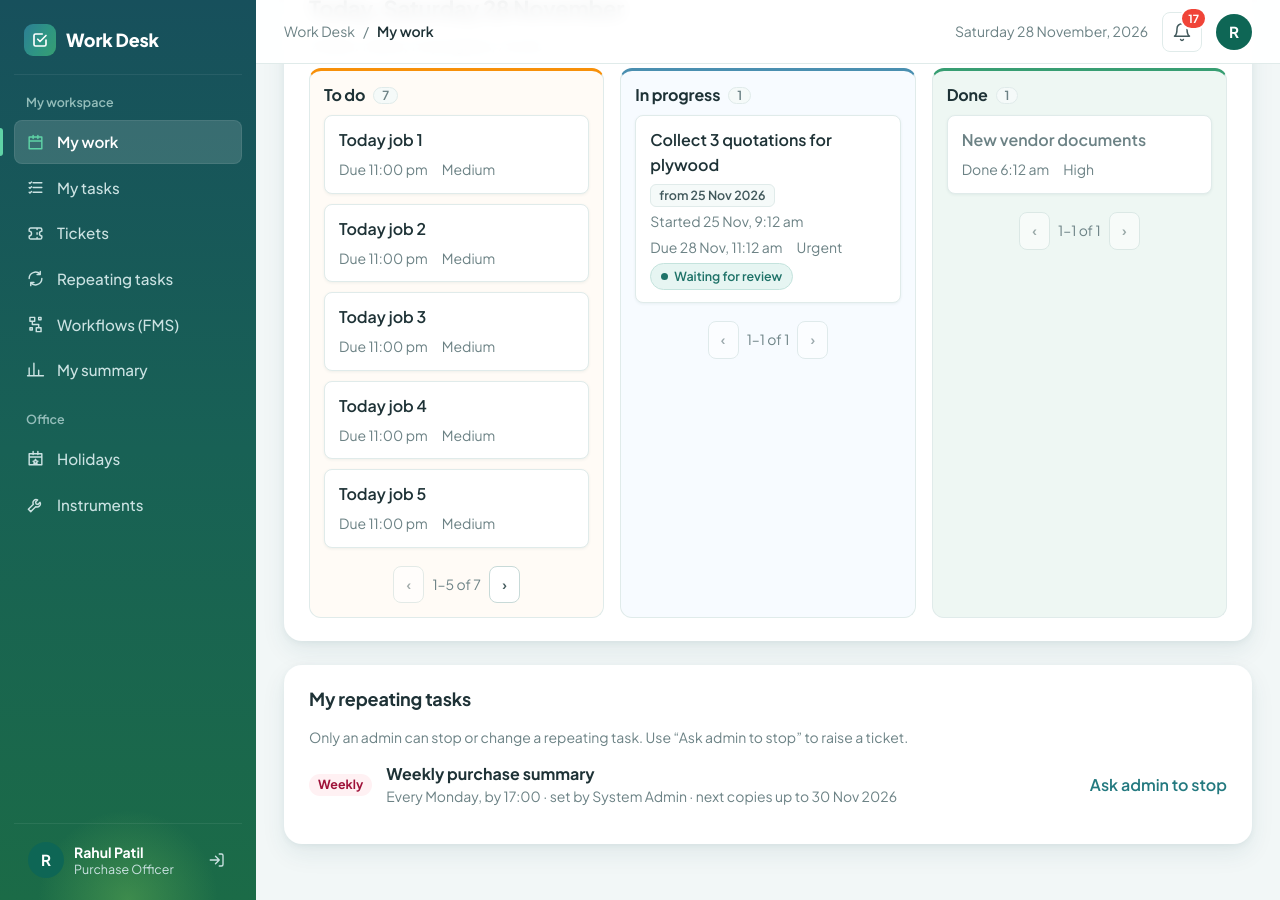
Test: today view carries over unfinished work › "show every day until due": a task due in 2 days is in today's To do, after today's work; 5 per page
The width and height of the screenshot is (1280, 900).
(page scrolled)
Expected: the element with class "dc-todo" is shown, [309,68,604,618]
Expected: the text "Today job 1" is shown, [339,128,423,153]
Click the button named "next" at (504, 585), box [489,566,520,604]
(page scrolled)
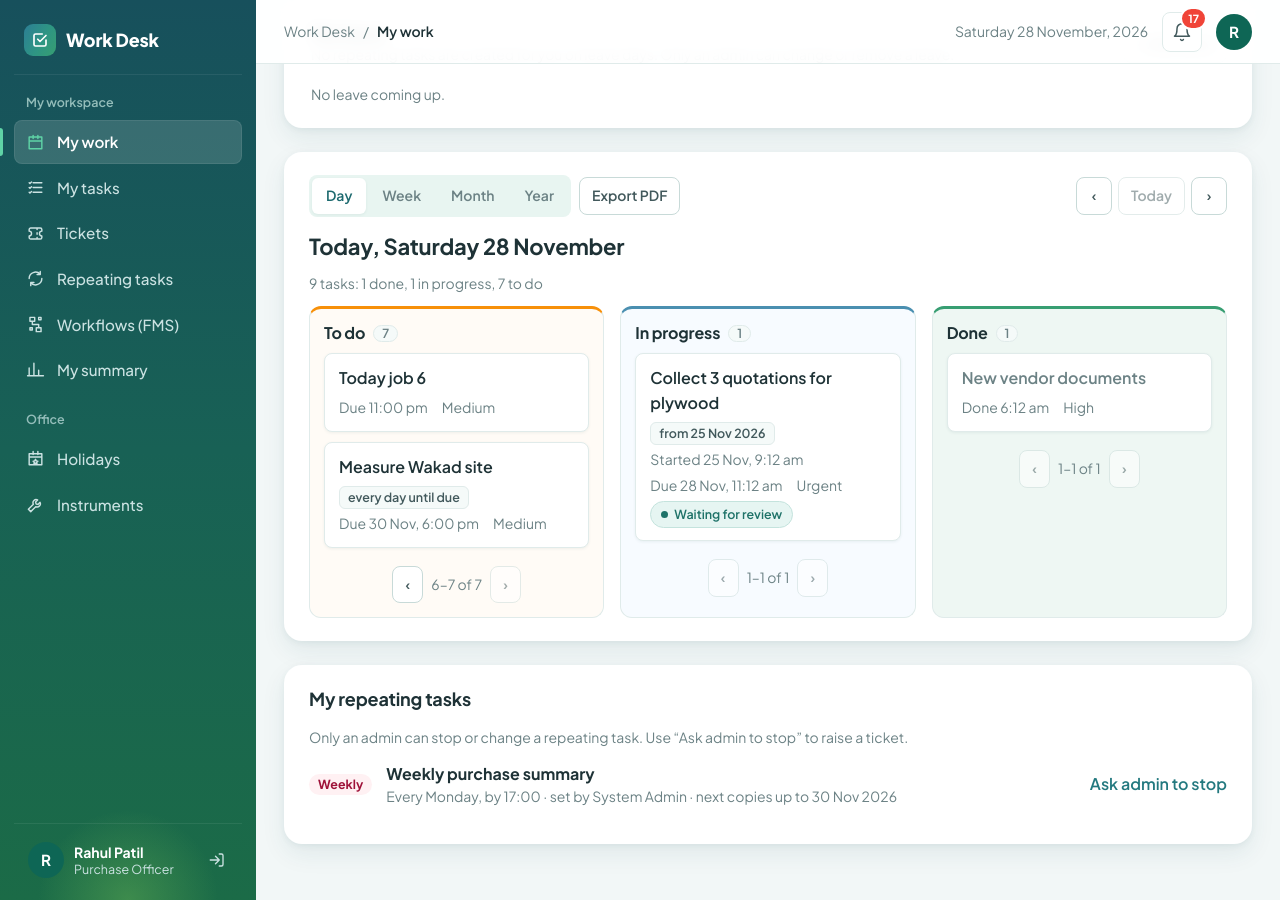
Expected: the button "Measure Wakad site" shows "every day until due", [324,442,589,548]
Expected: the button "Today job 1" is gone
